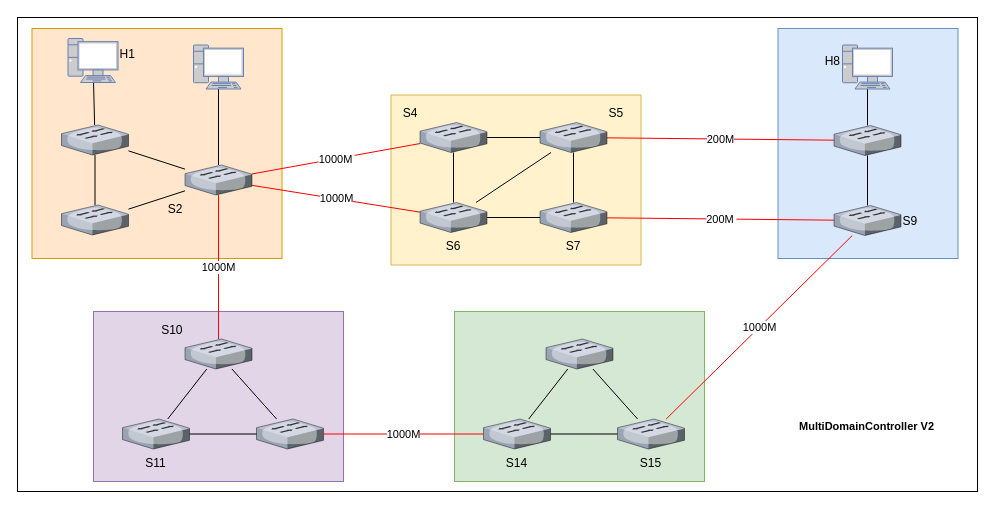
The diagram is 995 pixels wide and 509 high, and some of its shapes have lost their labels. Here are the shapes that lost their labels. From the top down, the centre of each, then its label:
At point (218, 67): "H2".
At point (94, 139): "S1".
At point (867, 140): "S8".
At point (94, 219): "S3".
At point (579, 353): "S13".
At point (289, 433): "S12".
